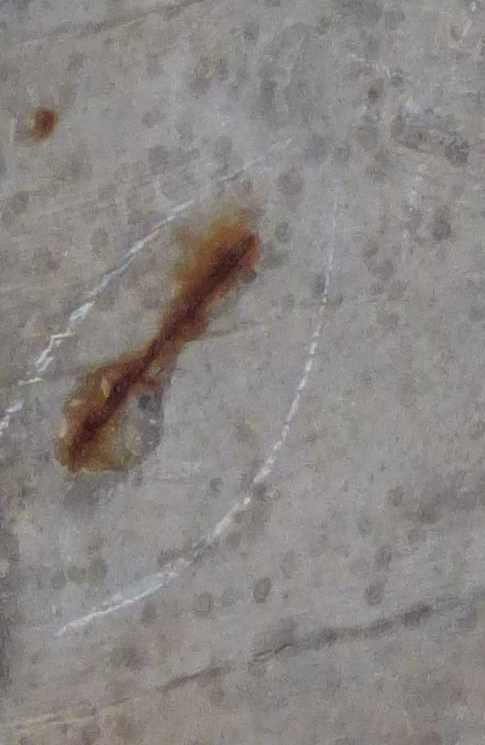Corrosion: (29, 108, 56, 140)
Exposed reinforcement: (76, 231, 256, 446)
Spalling: (51, 348, 172, 474)
